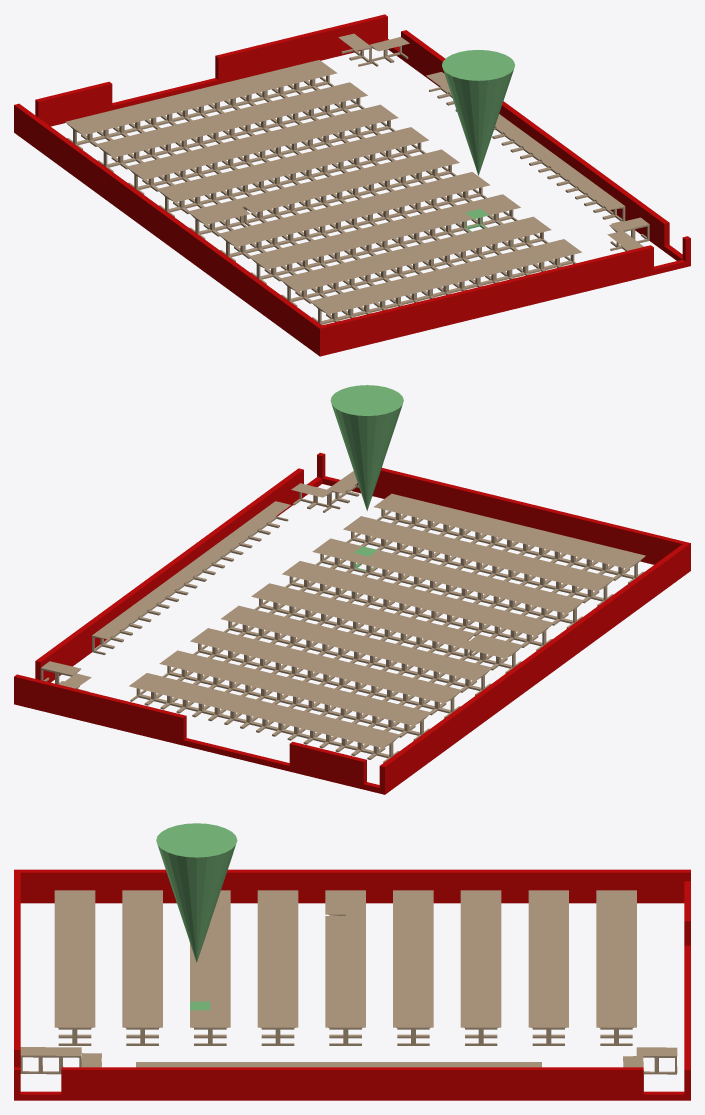
File: Boek 1.glb
3 renders of one model, top to bottom at view 1: azimuth 30°, elevation 25°; view 2: azimuth 150°, elevation 25°; view 3: azimuth 270°, elevation 25°, orthographic. The views are drawn at different scales.
Parts seen in each view (by area): view 1: Mesh_Mesh_head_geo.001_lambert2SG.001; view 2: Mesh_Mesh_head_geo.001_lambert2SG.001; view 3: Mesh_Mesh_head_geo.001_lambert2SG.001.
Part boxes in pixels (bbox=[...]): Mesh_Mesh_head_geo.001_lambert2SG.001: bbox=[14, 14, 690, 356]; Mesh_Mesh_head_geo.001_lambert2SG.001: bbox=[14, 385, 690, 794]; Mesh_Mesh_head_geo.001_lambert2SG.001: bbox=[14, 823, 690, 1100].
Size of the model in its own units: 70 by 31 by 100.
